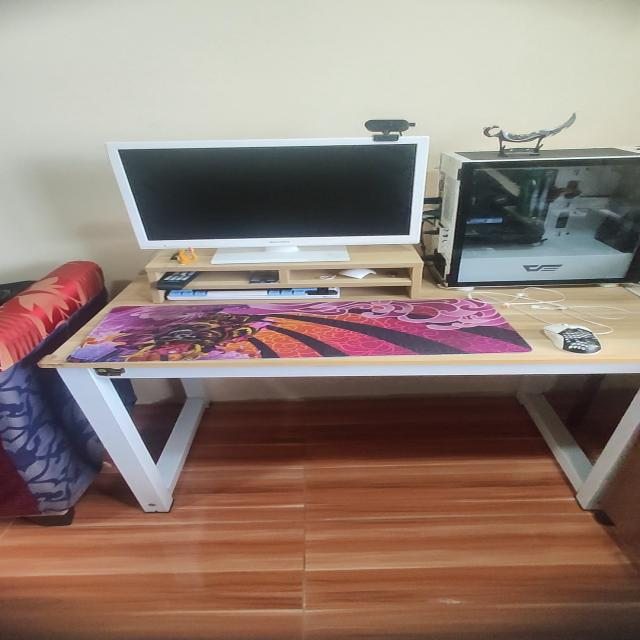table: (40, 255, 640, 519)
